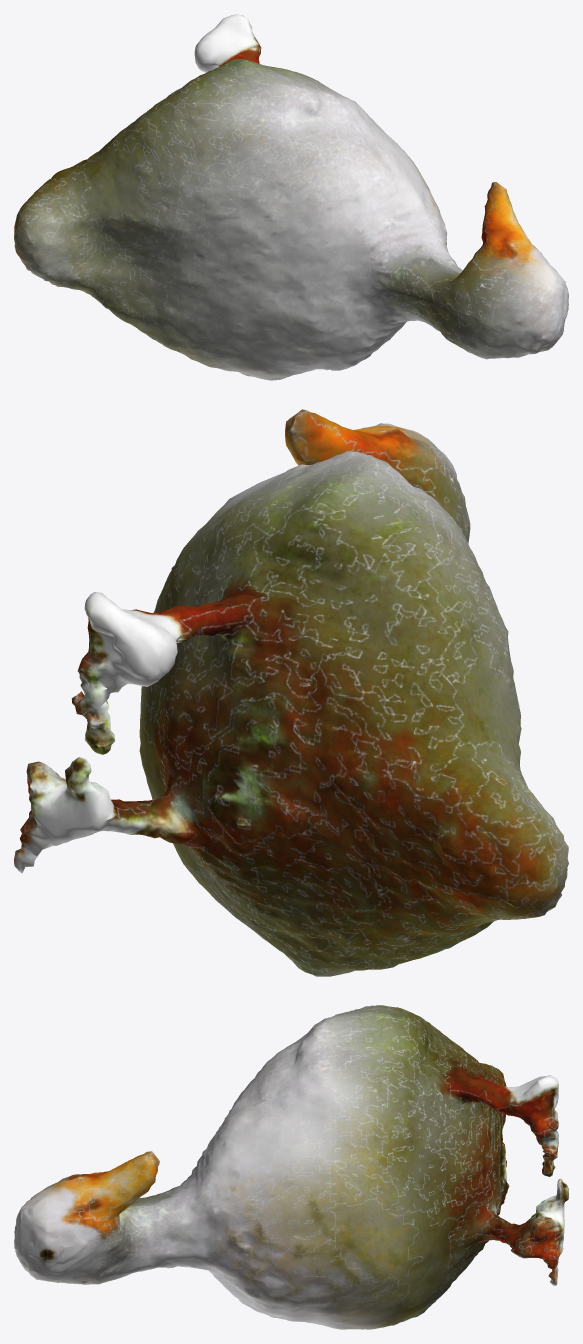
Rendered from duck_0.glb.
3 views of the same model, one above another, from view 1: azimuth 30°, elevation 25°; view 2: azimuth 150°, elevation 25°; view 3: azimuth 270°, elevation 25° (orthographic). The views are drawn at different scales.
Parts seen in each view (by area): view 1: model; view 2: model; view 3: model.
Part boxes in pixels (box(x1,y1,x2,y2)): model: box(14, 14, 568, 380); model: box(14, 409, 568, 976); model: box(14, 1005, 568, 1329).
Size of the model in its own units: 0.8696 by 0.7403 by 1.19.
Materials: 1 (1 with a texture image).
